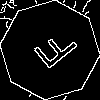F: (25, 25, 80, 77)
